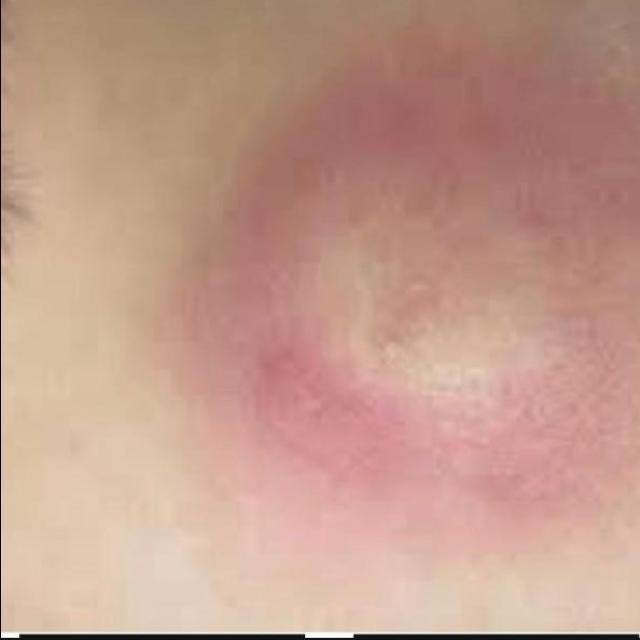nodule: (163, 100, 640, 520)
